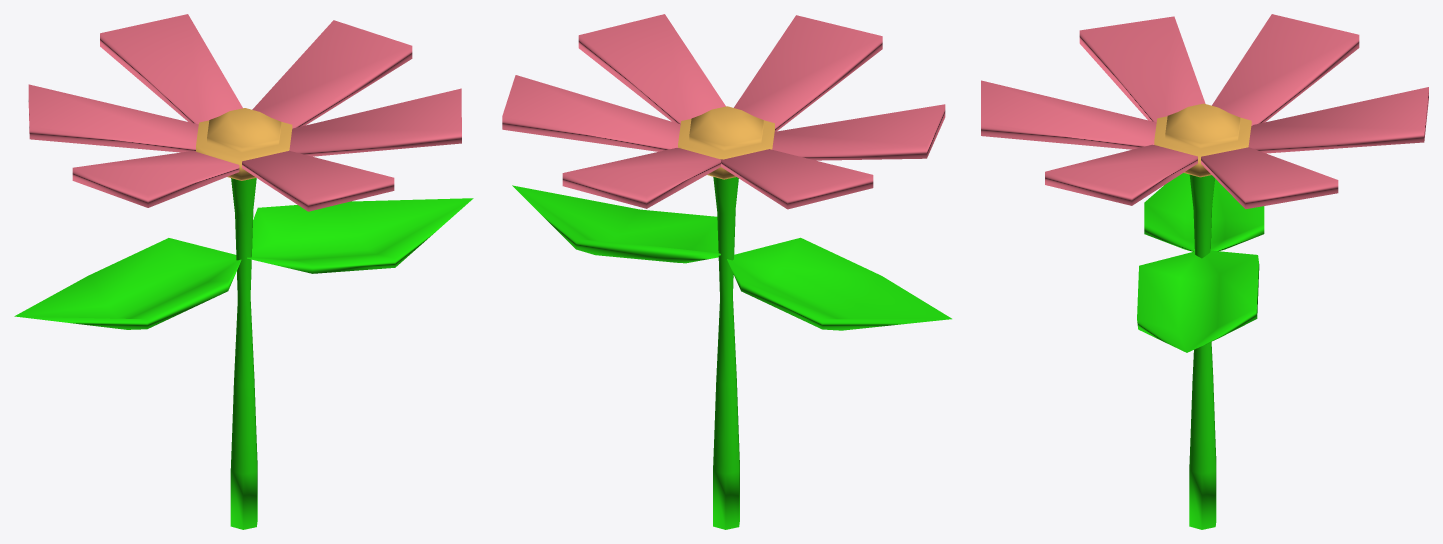
File: Flower_Pink.fbx
3 renders of one model, left to right at view 1: azimuth 30°, elevation 25°; view 2: azimuth 150°, elevation 25°; view 3: azimuth 270°, elevation 25°, orthographic.
Parts seen in each view (by area): view 1: leaf 2.001, leaf 1.001, Cube.010, Cube.007, stem.001, Cube.009, Cube.006, Cube.011, Cube.001, center.001; view 2: leaf 1.001, leaf 2.001, Cube.001, Cube.009, Cube.007, stem.001, Cube.011, Cube.010, Cube.006, center.001; view 3: leaf 2.001, Cube.006, Cube.011, Cube.010, Cube.001, stem.001, Cube.009, leaf 1.001, Cube.007, center.001.
Boxes of the visible parts, x1,y1,x2,y2 form: leaf 2.001: (247,198,473,273); leaf 1.001: (14,238,241,329); Cube.010: (100,14,242,124); Cube.007: (252,20,412,128); stem.001: (230,178,257,529); Cube.009: (289,88,461,156); Cube.006: (28,84,198,152); Cube.011: (72,150,239,207); Cube.001: (242,150,394,211); center.001: (196,108,292,180); leaf 1.001: (727,237,951,330); leaf 2.001: (512,185,720,263); Cube.001: (734,15,882,131); Cube.009: (578,14,725,124); Cube.007: (502,75,680,151); stem.001: (713,177,739,529); Cube.011: (772,104,945,160); Cube.010: (562,148,720,208); Cube.006: (720,149,873,209); center.001: (678,106,774,179); leaf 2.001: (1137,250,1259,352); Cube.006: (1212,14,1359,125); Cube.011: (1079,16,1205,122); Cube.010: (1248,87,1428,153); Cube.001: (981,80,1156,149); stem.001: (1189,174,1216,529); Cube.009: (1045,144,1197,205); leaf 1.001: (1144,173,1264,251); Cube.007: (1201,147,1338,209); center.001: (1154,103,1251,177).
Bounding box in the file's own units: 1650 × 1460 × 1409.
